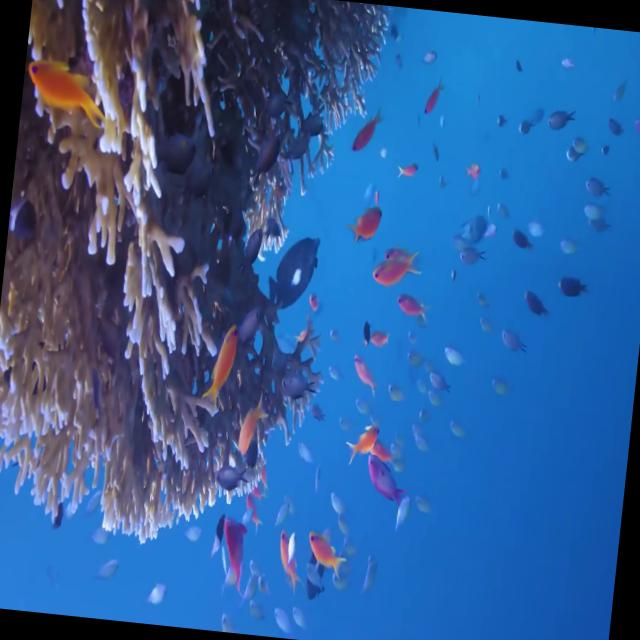fish: (24, 51, 108, 128), (265, 234, 319, 312), (200, 318, 241, 410), (369, 241, 428, 287), (304, 528, 348, 580)
